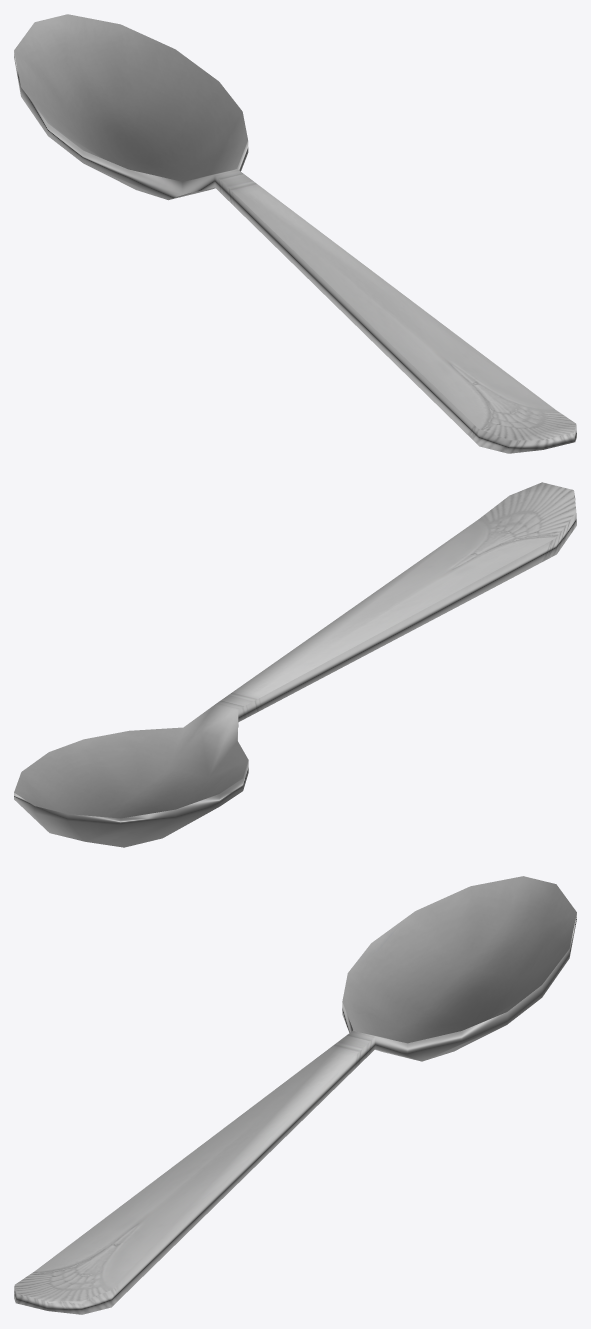
The model's file is SpoonBig.fbx.
3 renders of one model, top to bottom at view 1: azimuth 30°, elevation 25°; view 2: azimuth 150°, elevation 25°; view 3: azimuth 330°, elevation 25°, orthographic.
Visible parts, largest first — view 1: Default_Layer; view 2: Default_Layer; view 3: Default_Layer.
Part boxes in pixels (box(x1,y1,x2,y2)): Default_Layer: box(14, 14, 576, 453); Default_Layer: box(14, 482, 576, 847); Default_Layer: box(14, 876, 576, 1314).
Size of the model in its own units: 10.97 by 5.1 by 56.46.
